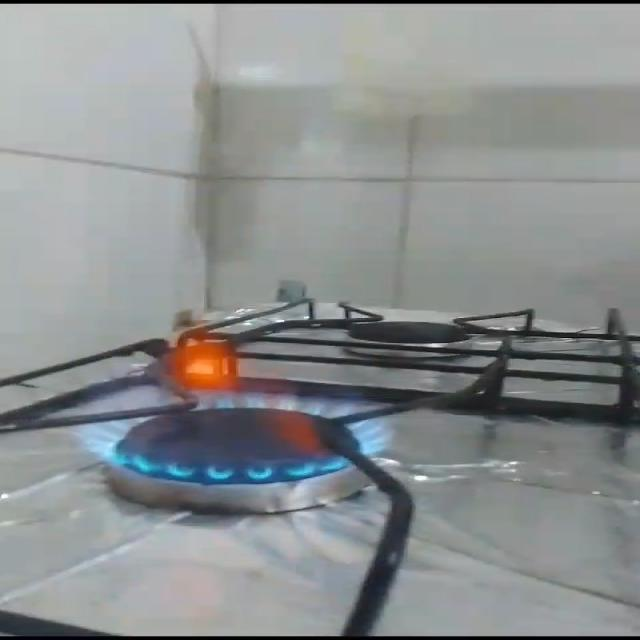fire: (86, 307, 393, 501)
